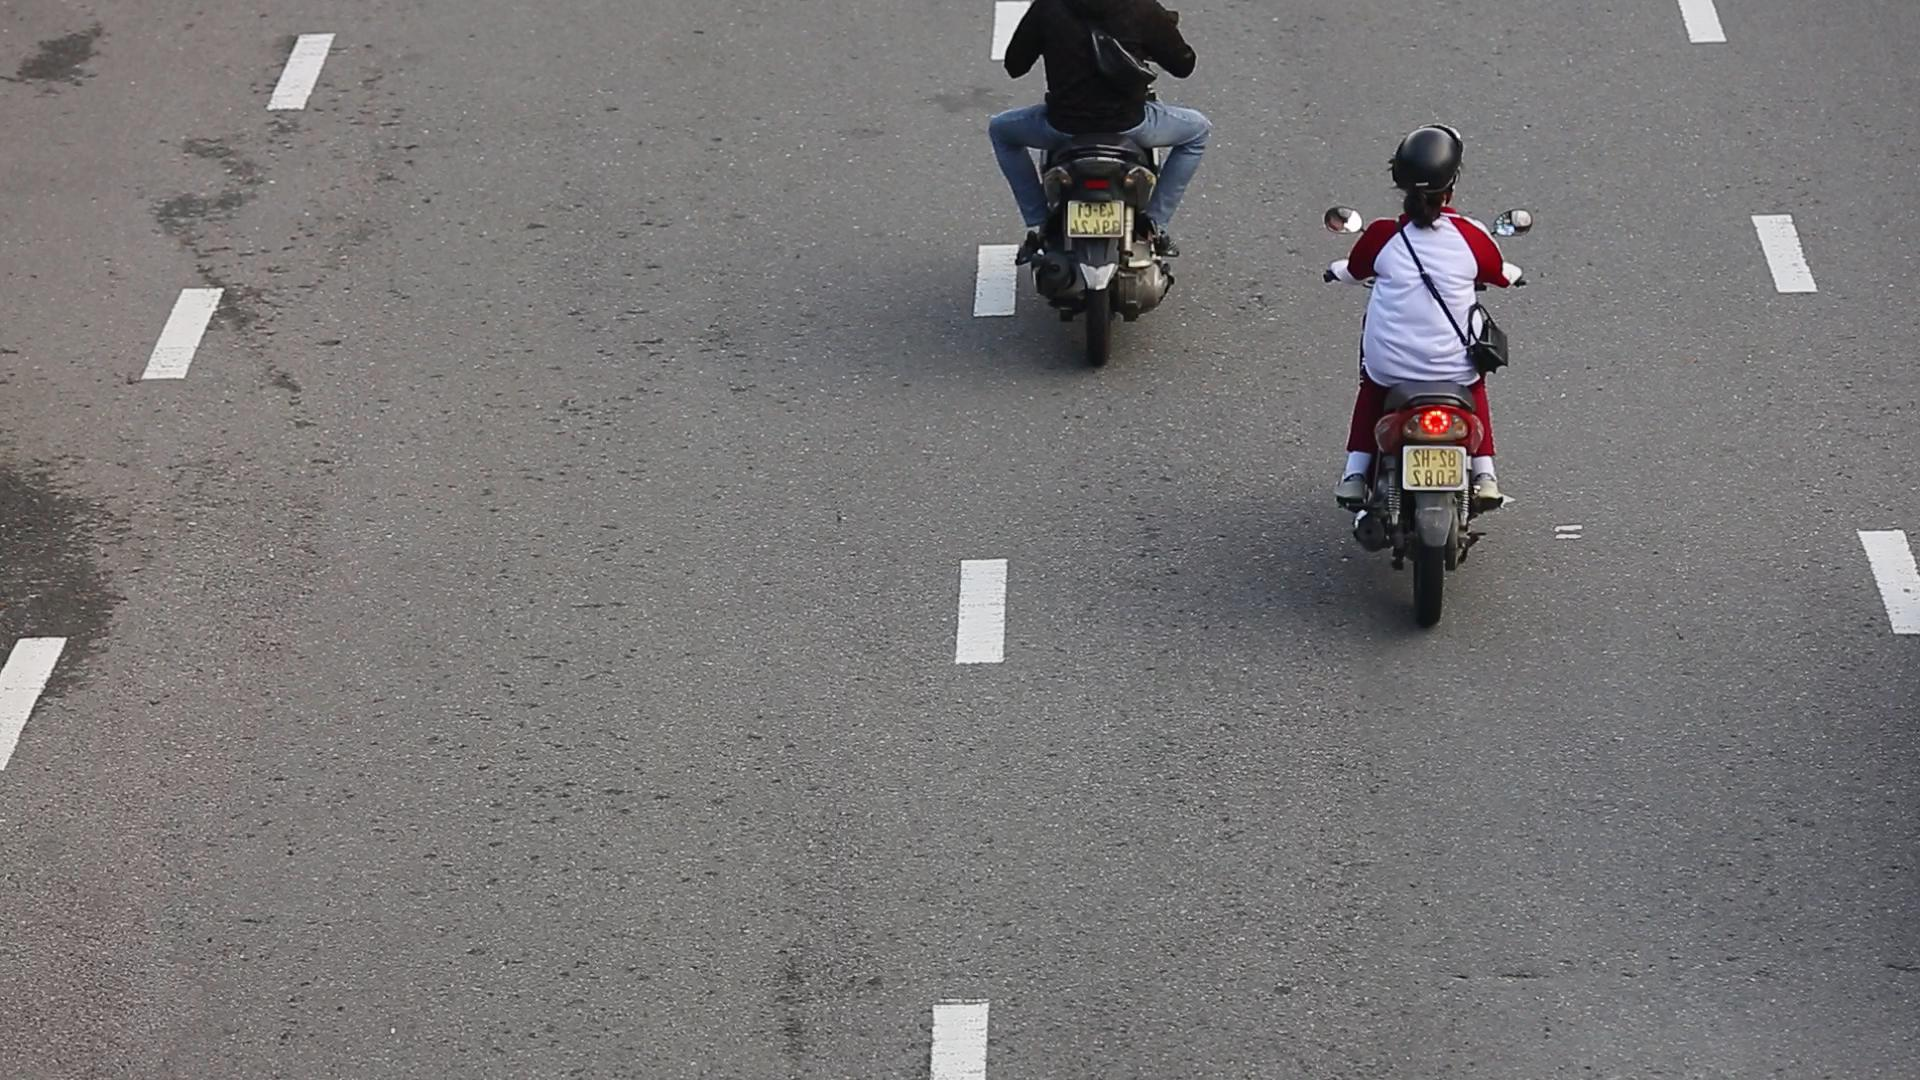motobike: (1308, 108, 1535, 641)
